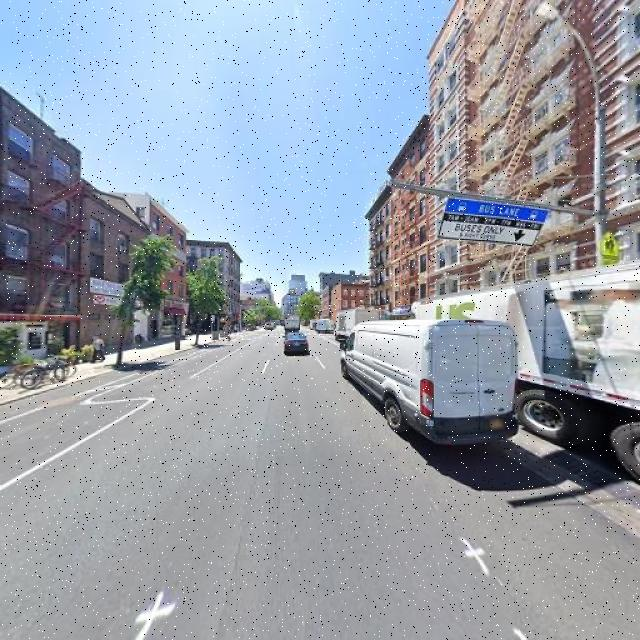Building: (433, 1, 640, 377), (1, 98, 75, 367), (82, 188, 147, 353), (393, 123, 429, 342), (152, 205, 184, 342), (372, 192, 390, 335)
